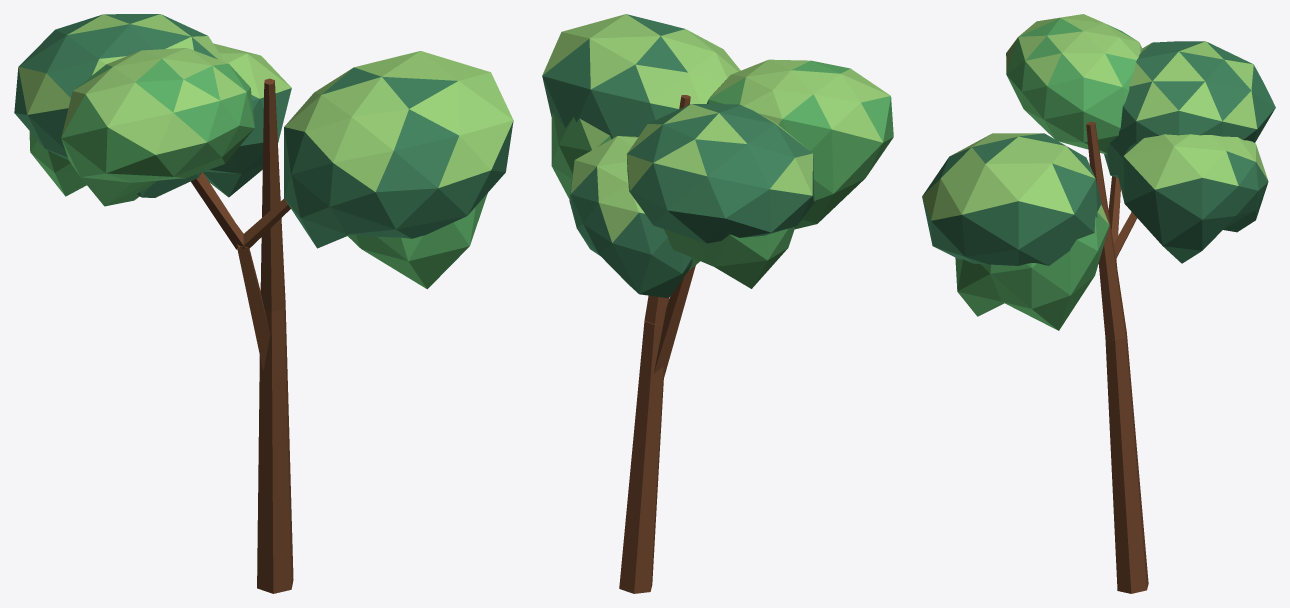
File: sapling_d.glb
3 renders of one model, left to right at view 1: azimuth 30°, elevation 25°; view 2: azimuth 150°, elevation 25°; view 3: azimuth 270°, elevation 25°, orthographic. The views are drawn at different scales.
Visible parts, largest first — view 1: SaplingD; view 2: SaplingD; view 3: SaplingD.
Boxes of the visible parts, x1,y1,x2,y2 form: SaplingD: [14, 14, 513, 593]; SaplingD: [542, 14, 893, 593]; SaplingD: [922, 14, 1275, 593].
Bounding box in the file's own units: 1.77 × 2.44 × 1.57.
